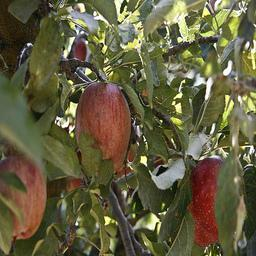apple: (75, 81, 131, 172), (188, 158, 232, 247), (1, 154, 47, 239)
